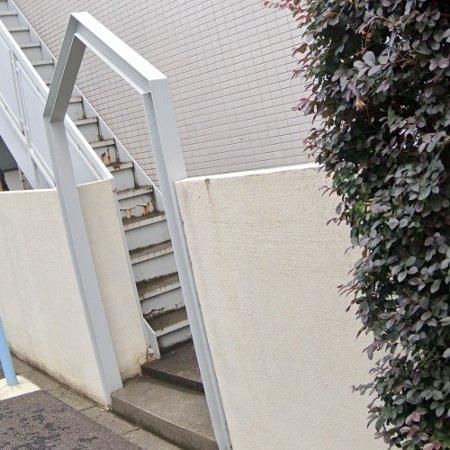stairs: (68, 87, 191, 352), (0, 0, 55, 86)
